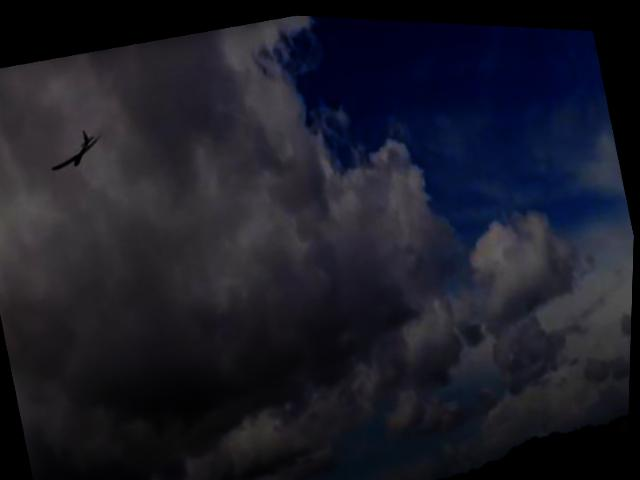iha: (43, 120, 108, 179)
